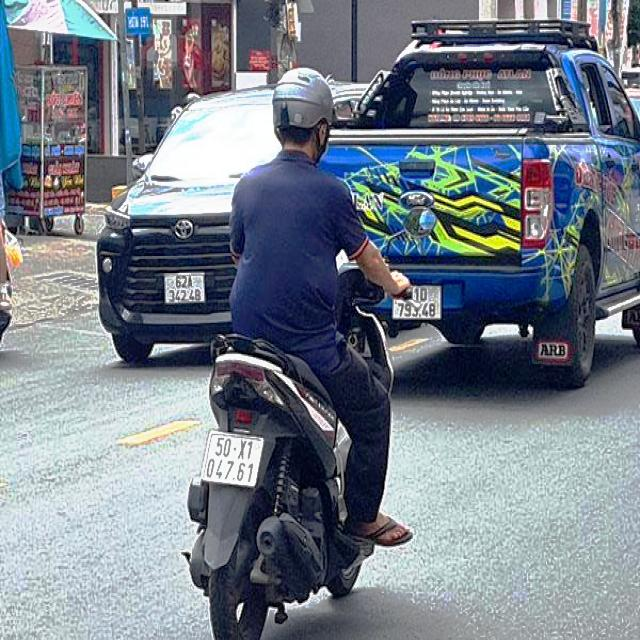license_plate: (203, 433, 265, 487), (165, 274, 206, 305)
